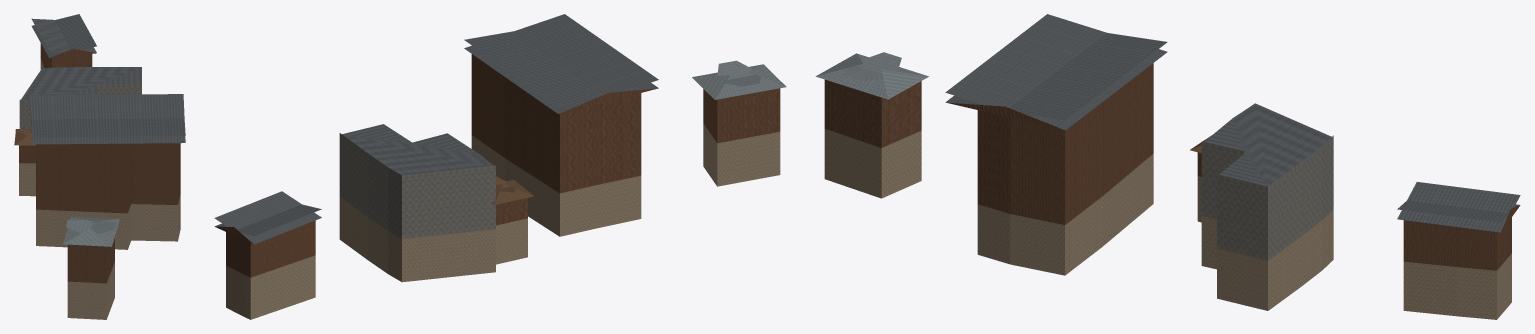
File: bld_c38_-12_536.gltf
3 views of the same model, side by side, from view 1: azimuth 30°, elevation 25°; view 2: azimuth 150°, elevation 25°; view 3: azimuth 270°, elevation 25° (orthographic). The views are drawn at different scales.
Parts seen in each view (by area): view 1: bld_c38_-12_536; view 2: bld_c38_-12_536; view 3: bld_c38_-12_536.
Boxes of the visible parts, <box> form: bld_c38_-12_536: <box>14,14,185,319</box>; bld_c38_-12_536: <box>214,14,786,319</box>; bld_c38_-12_536: <box>815,14,1520,319</box>.
Size of the model in its own units: 36.47 by 17.1 by 64.57.
Materials: 8 (8 with a texture image).
